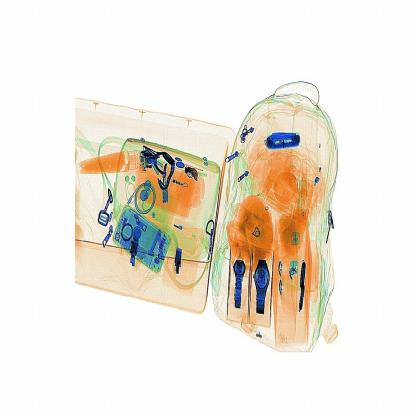scissors: (262, 126, 303, 155)
